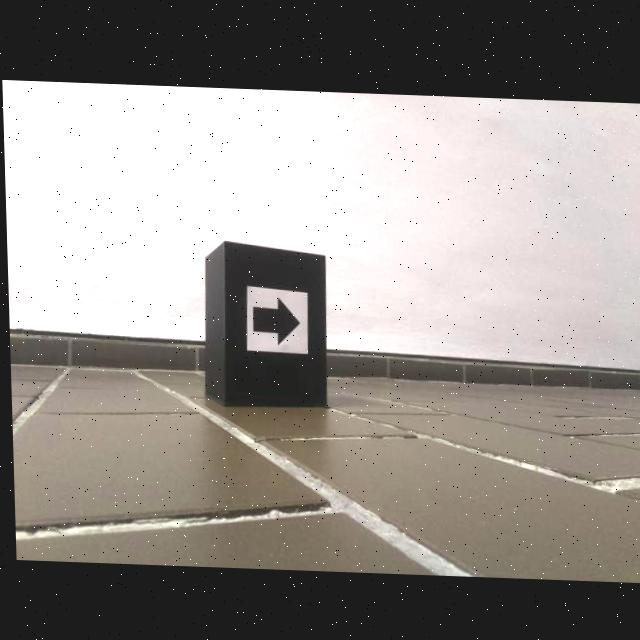RIGHT: (251, 296, 297, 343)
